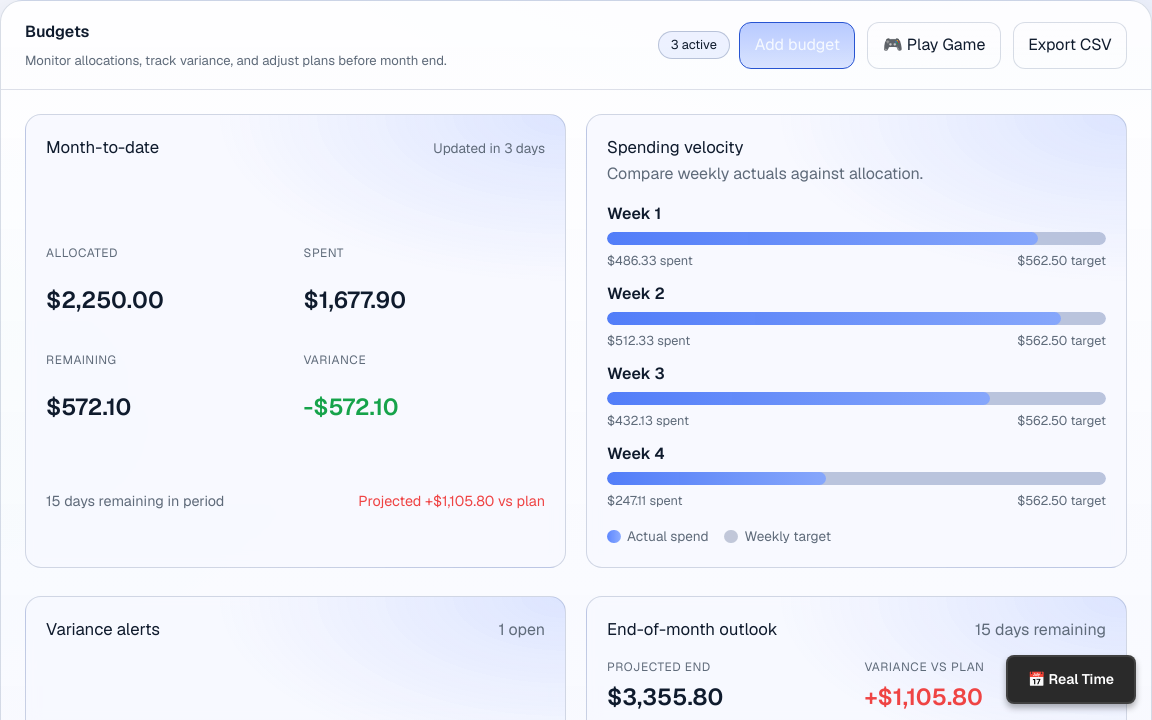
Test: BudgetsSection › shows validation errors when saving an incomplete budget
Click the button "Add budget" at (797, 45), box [739,22,855,69]
(page scrolled)
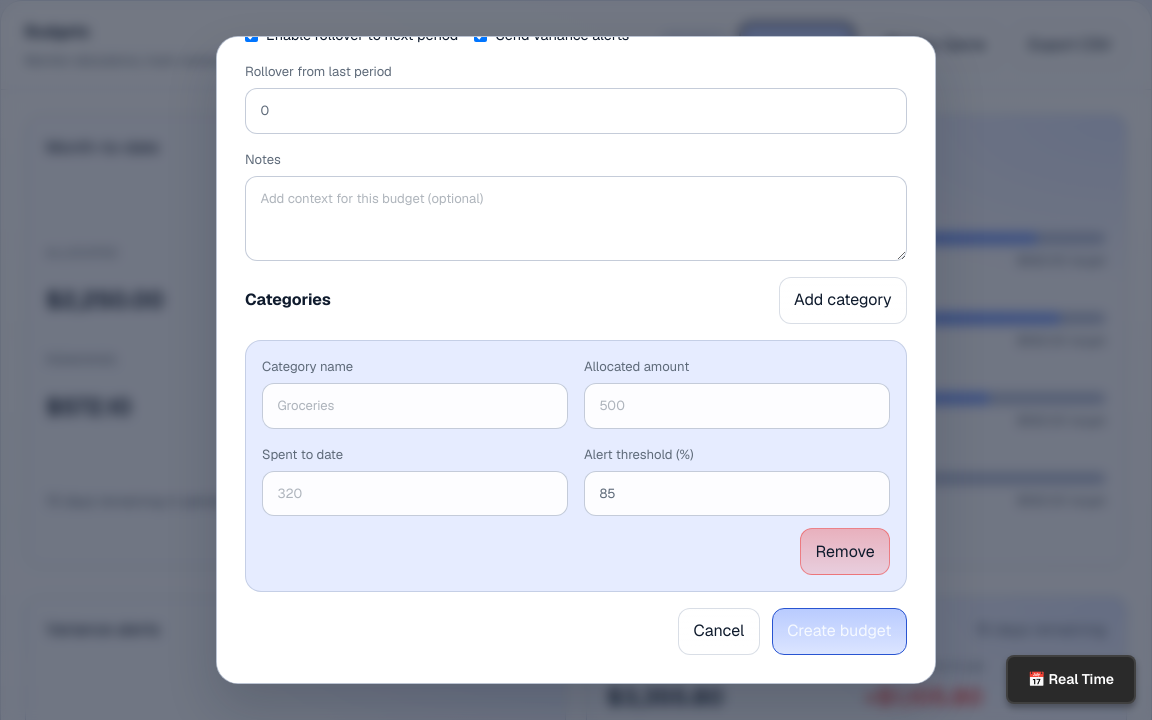
Click the button "Create budget" at (839, 631), box [772,608,907,655]
(page scrolled)
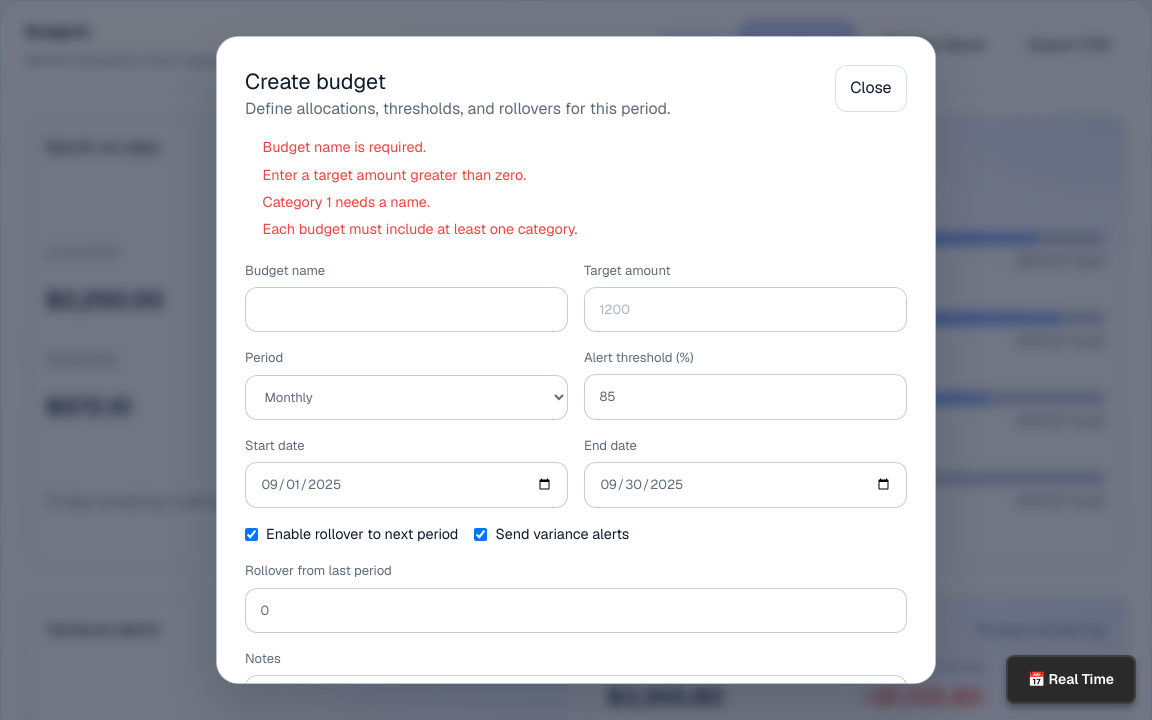
Check: the list item "Budget name is required." is shown, box [263,138,426,156]
Check: the list item "Enter a target amount greater than zero." is shown, box [263,166,526,184]
